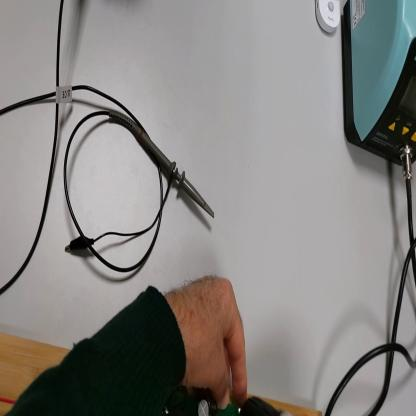electric screwdriver: (242, 397, 294, 415)
hand: (162, 273, 248, 407)
high voltage board: (163, 391, 243, 415)
oscilloscope probe tip: (112, 118, 217, 220)
welder station: (342, 3, 416, 166)
working area: (2, 334, 323, 416)
